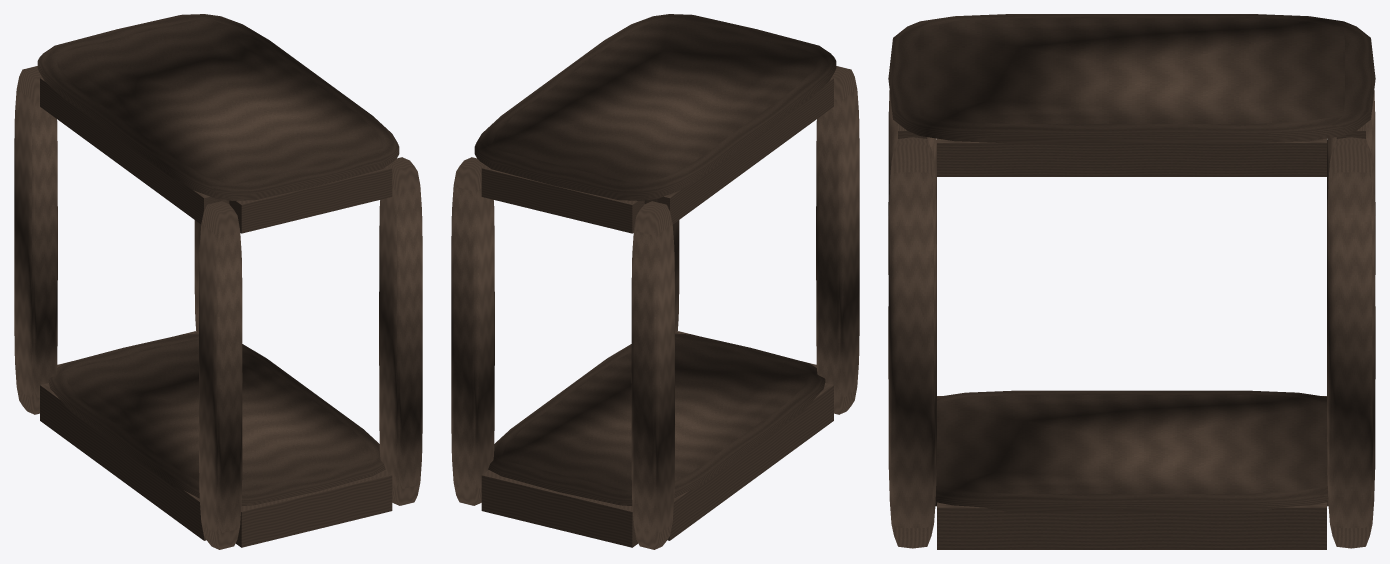
3 views of the same model, side by side, from view 1: azimuth 30°, elevation 25°; view 2: azimuth 150°, elevation 25°; view 3: azimuth 270°, elevation 25° (orthographic). The views are drawn at different scales.
Parts seen in each view (by area): view 1: 1 top_panel, 2 bottom_shelf, 3 leg_front_left, 4 leg_front_right, 5 leg_back_left, 11 bottom_rail_front, 13 bottom_rail_left, 7 top_rail_front, 9 top_rail_left, 6 leg_back_right; view 2: 1 top_panel, 2 bottom_shelf, 5 leg_back_left, 6 leg_back_right, 3 leg_front_left, 12 bottom_rail_back, 13 bottom_rail_left, 8 top_rail_back, 9 top_rail_left, 4 leg_front_right; view 3: 1 top_panel, 2 bottom_shelf, 4 leg_front_right, 6 leg_back_right, 14 bottom_rail_right, 10 top_rail_right, 3 leg_front_left, 5 leg_back_left.
Boxes of the visible parts, left/top/right/bottom form: 1 top_panel: left=37, top=14, right=399, bottom=200; 2 bottom_shelf: left=48, top=333, right=385, bottom=505; 3 leg_front_left: left=199, top=201, right=242, bottom=549; 4 leg_front_right: left=379, top=157, right=422, bottom=505; 5 leg_back_left: left=14, top=66, right=57, bottom=414; 11 bottom_rail_front: left=235, top=470, right=392, bottom=547; 13 bottom_rail_left: left=40, top=383, right=206, bottom=540; 7 top_rail_front: left=229, top=165, right=392, bottom=233; 9 top_rail_left: left=40, top=77, right=216, bottom=224; 6 leg_back_right: left=194, top=199, right=229, bottom=333; 1 top_panel: left=474, top=14, right=836, bottom=200; 2 bottom_shelf: left=488, top=333, right=825, bottom=505; 5 leg_back_left: left=631, top=201, right=674, bottom=549; 6 leg_back_right: left=451, top=157, right=494, bottom=505; 3 leg_front_left: left=816, top=66, right=859, bottom=414; 12 bottom_rail_back: left=481, top=470, right=638, bottom=547; 13 bottom_rail_left: left=667, top=383, right=833, bottom=540; 8 top_rail_back: left=481, top=165, right=644, bottom=233; 9 top_rail_left: left=657, top=77, right=833, bottom=224; 4 leg_front_right: left=644, top=199, right=679, bottom=333; 1 top_panel: left=888, top=14, right=1375, bottom=143; 2 bottom_shelf: left=935, top=390, right=1328, bottom=512; 4 leg_front_right: left=888, top=137, right=936, bottom=548; 6 leg_back_right: left=1327, top=137, right=1375, bottom=548; 14 bottom_rail_right: left=937, top=502, right=1326, bottom=549; 10 top_rail_right: left=937, top=138, right=1326, bottom=176; 3 leg_front_left: left=888, top=90, right=936, bottom=274; 5 leg_back_left: left=1327, top=90, right=1375, bottom=274.
Size of the model in its own units: 0.3747 by 0.6096 by 0.635.
1 material, 1 textured.
